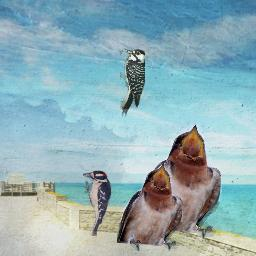Swallow: (135, 124, 222, 239), (117, 163, 183, 251)
Woodpecker: (83, 169, 112, 236), (120, 48, 145, 117)
